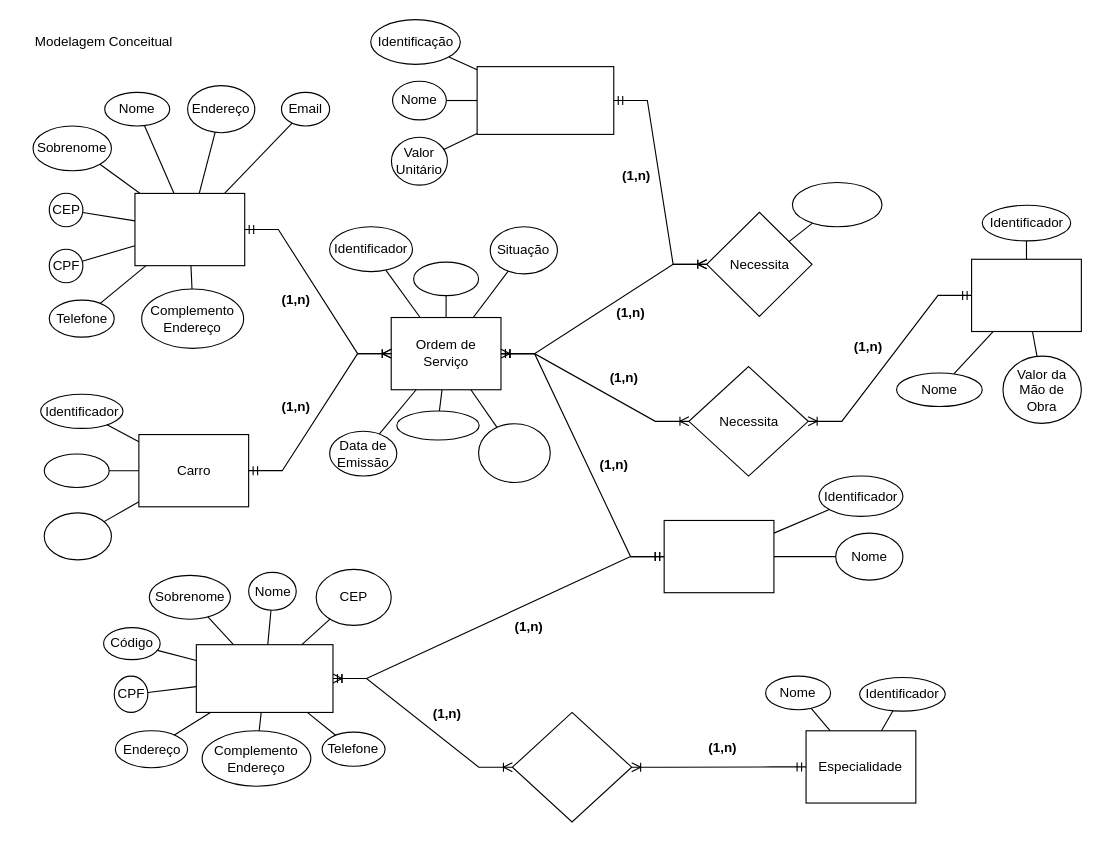
Image size: 1101x842. Some labels were removed from this diagram. Here are the shapes that lost their labels. From the top down, the centre of each, then its label:
At pixel 545 100: "Peça".
At pixel 836 204: "Quantidade de Peças".
At pixel 189 229: "Cliente".
At pixel 445 278: "Valor".
At pixel 1025 295: "Serviço".
At pixel 437 425: "Autorização".
At pixel 76 470: "Modelo".
At pixel 513 452: "Data de Conclusão".
At pixel 77 536: "Placa".
At pixel 718 556: "Equipe".
At pixel 264 678: "Mecânico".
At pixel 571 766: "Possui".
